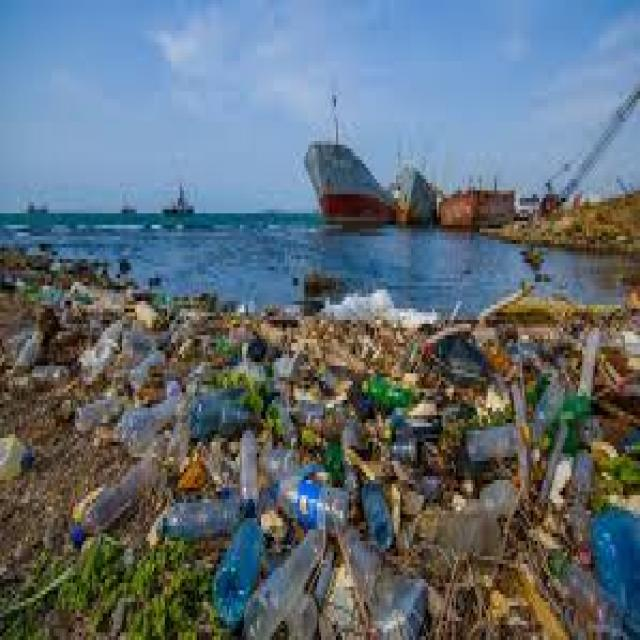heap: (237, 340, 560, 546)
